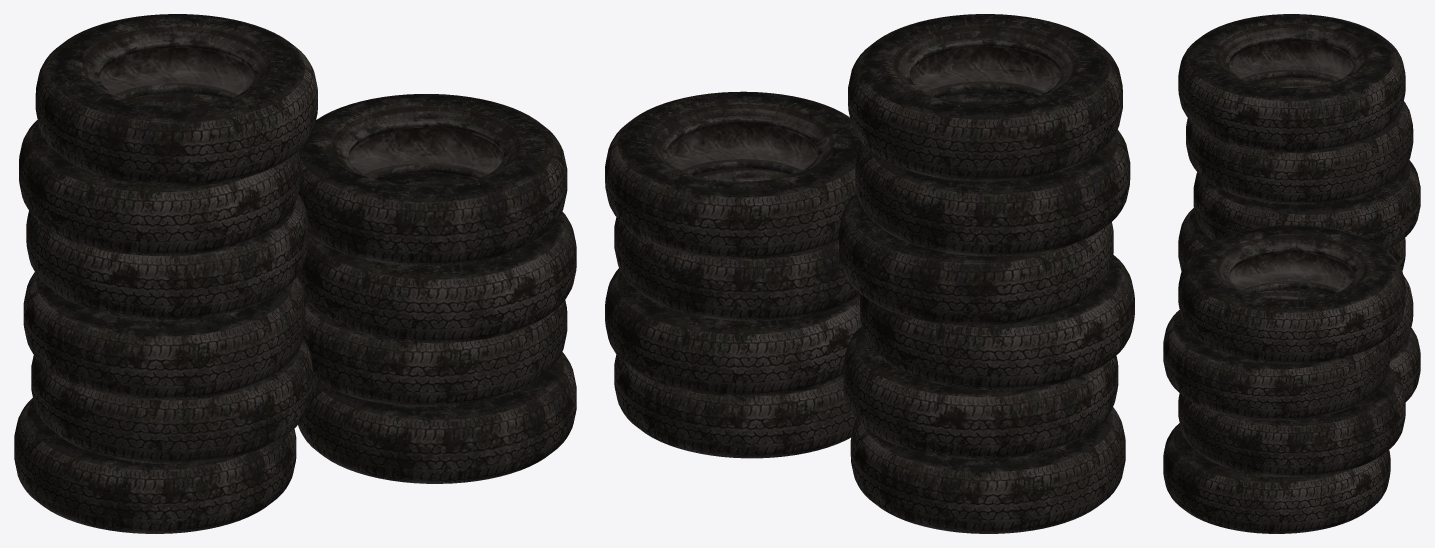
The model's file is prop-debris-tires.glb.
3 views of the same model, side by side, from view 1: azimuth 30°, elevation 25°; view 2: azimuth 150°, elevation 25°; view 3: azimuth 270°, elevation 25° (orthographic). The views are drawn at different scales.
Parts seen in each view (by area): view 1: prop-debris-tires (×10); view 2: prop-debris-tires (×10); view 3: prop-debris-tires (×10).
Part boxes in pixels (x1,y1,x2,y2): prop-debris-tires (×10): [14, 14, 576, 533]; prop-debris-tires (×10): [605, 14, 1134, 533]; prop-debris-tires (×10): [1163, 14, 1420, 533].
Bounding box in the file's own units: 1.24 × 0.99 × 0.68.
Materials: 1 (1 with a texture image).
